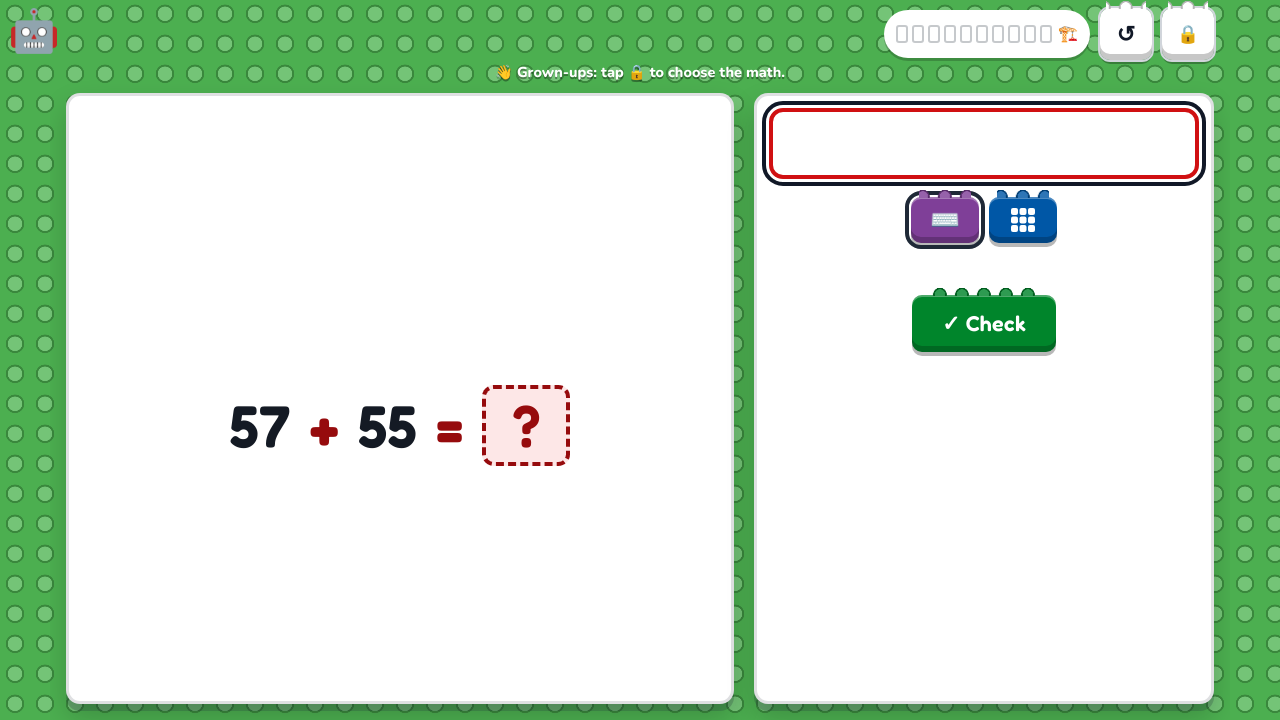
Test: KidView › parent cheers replace the praise, and 3 right in a row shows a 🔥 streak
The width and height of the screenshot is (1280, 720).
Step 1. Type "112" into the field named "Your answer" → [984, 143], box [769,108,1199,179]
Step 2. Click the button "✓ Check" → [984, 323], box [912,295,1056,352]
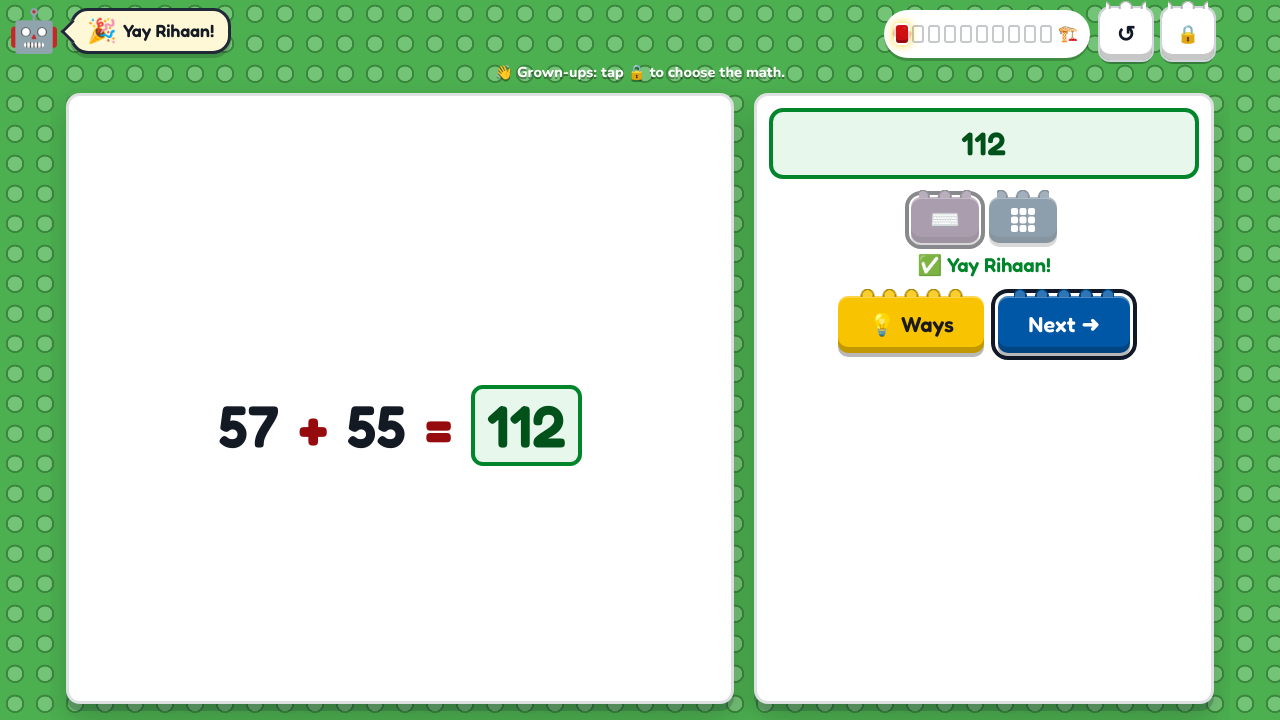
Check: the message with class "correct" shows "Yay Rihaan!", box [947,253,1051,277]
Step 3. Click the button "Next ➜" → [1064, 324], box [998,296,1130,353]
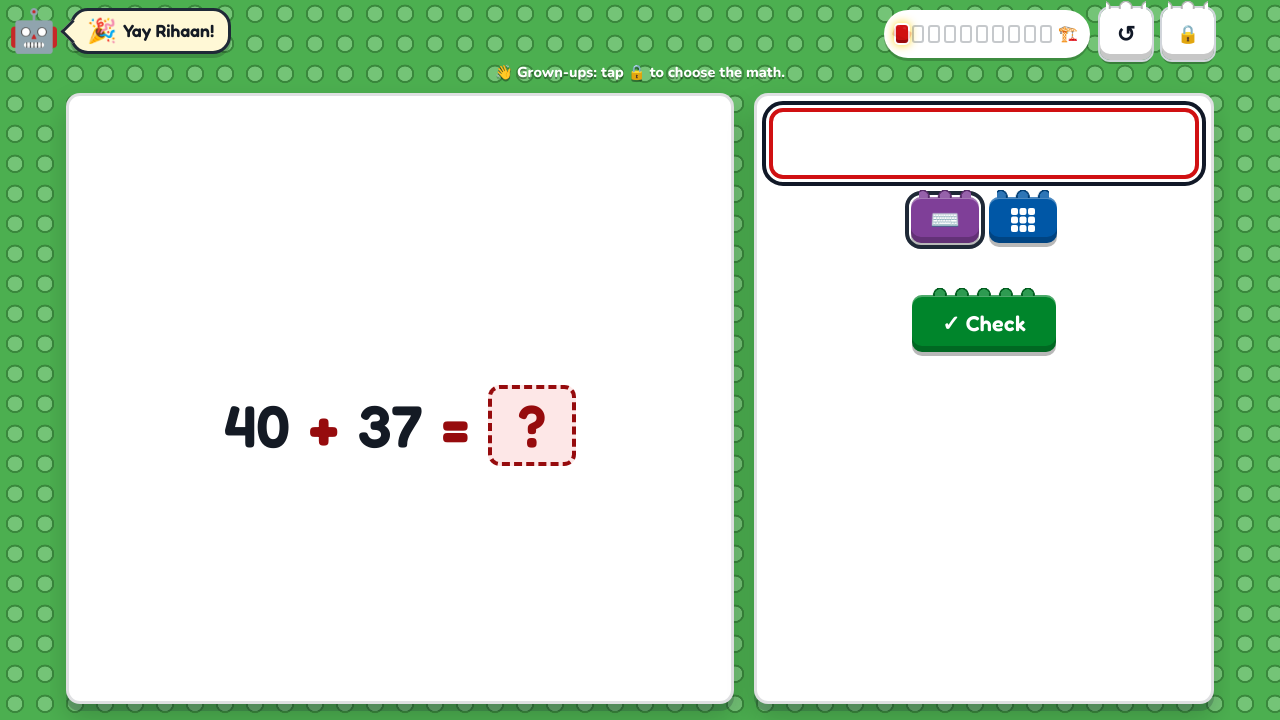
Step 4. Type "77" into the field named "Your answer" → [984, 143], box [769,108,1199,179]
Step 5. Click the button "✓ Check" → [984, 323], box [912,295,1056,352]
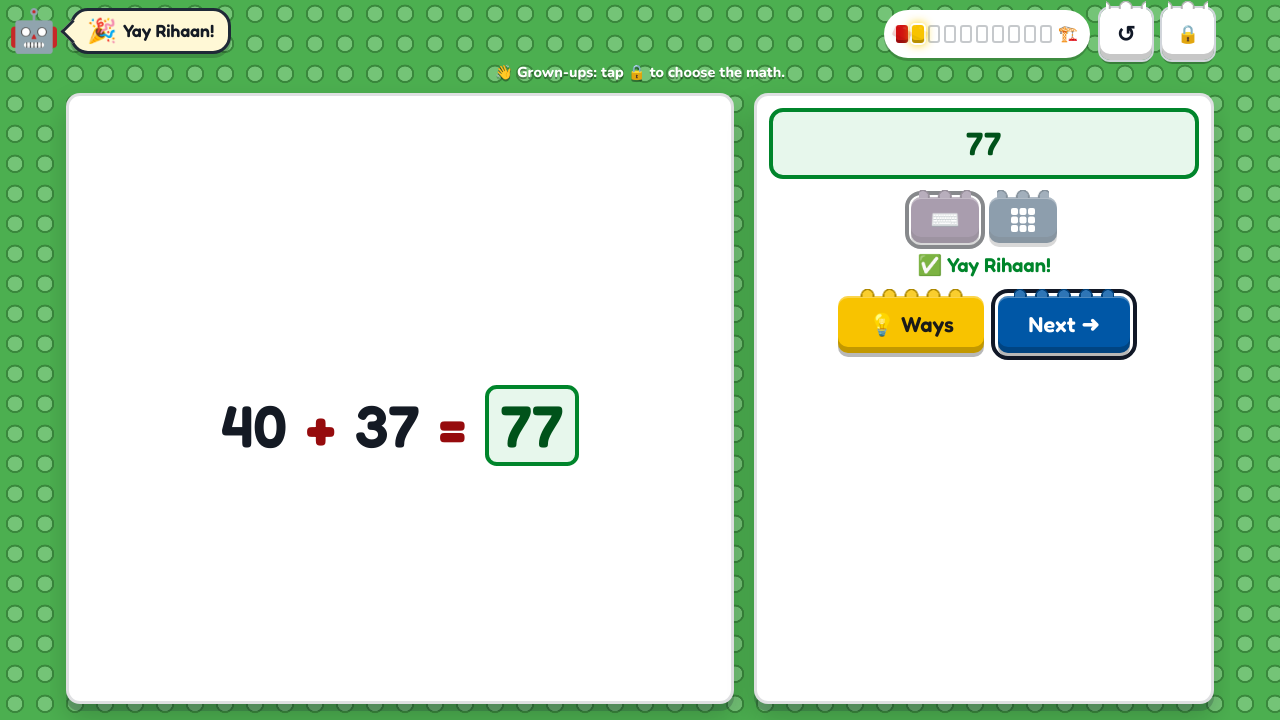
Check: the message with class "correct" shows "Yay Rihaan!", box [947,253,1051,277]
Step 6. Click the button "Next ➜" → [1064, 324], box [998,296,1130,353]
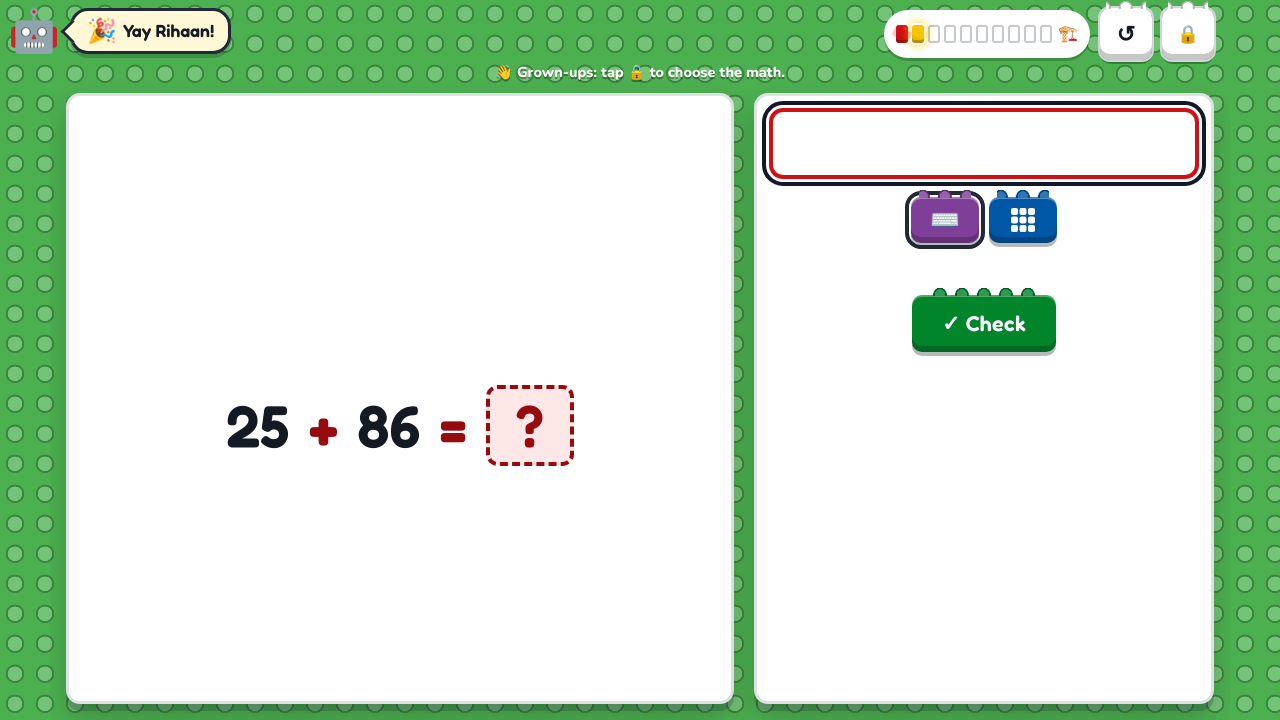
Step 7. Type "111" into the field named "Your answer" → [984, 143], box [769,108,1199,179]
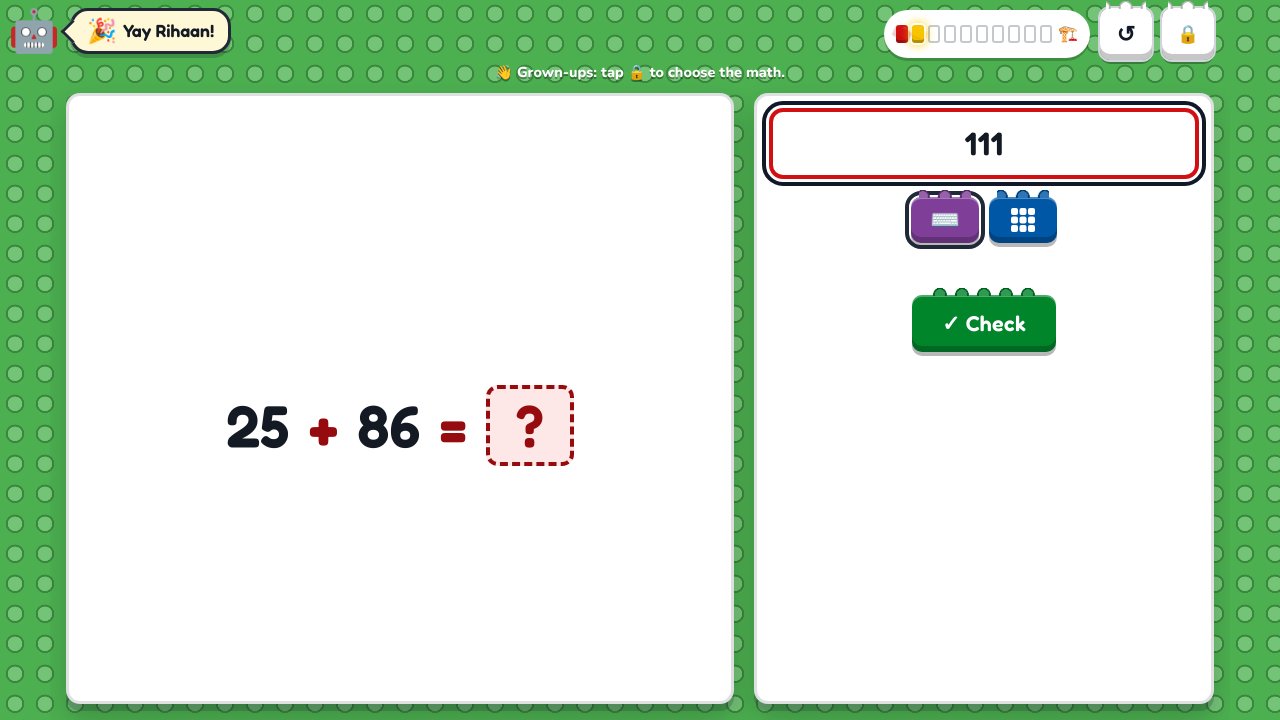
Step 8. Click the button "✓ Check" → [984, 323], box [912,295,1056,352]
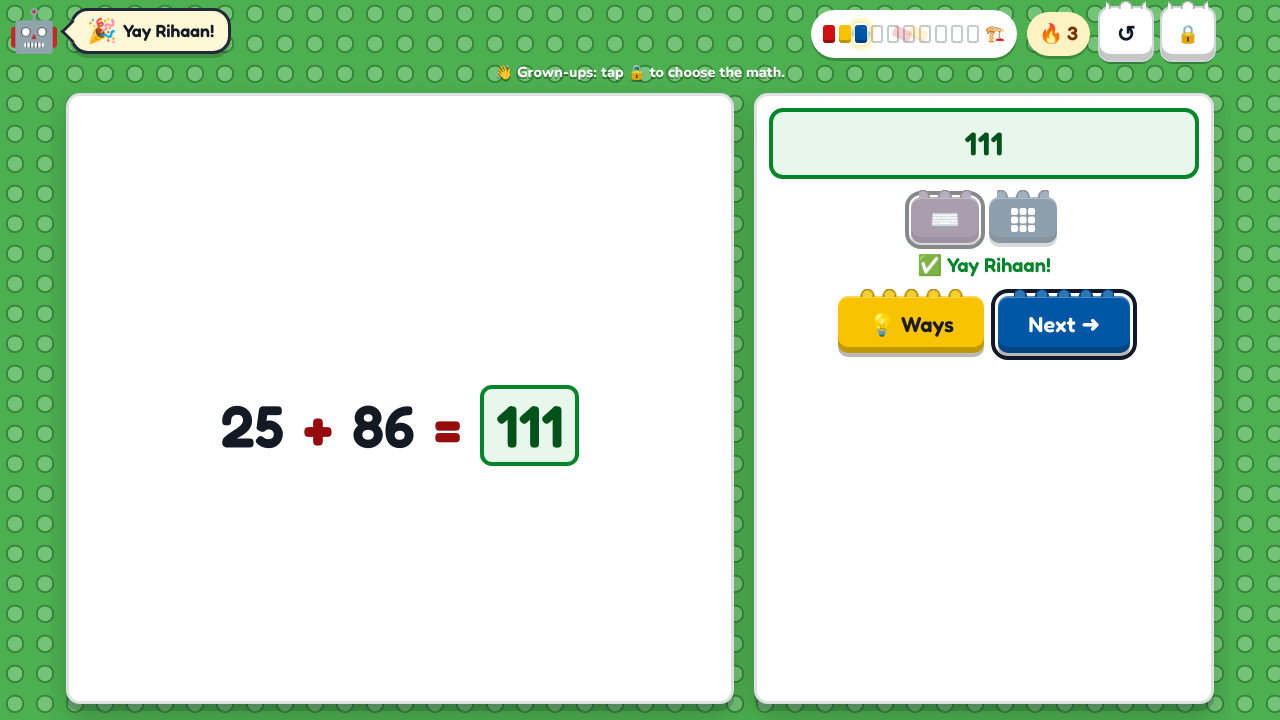
Check: the message with class "correct" shows "Yay Rihaan!", box [947,253,1051,277]
Check: the picture named "3 in a row" shows "3", box [1067,21,1078,45]
Check: the button "💡 Ways" is shown, box [838,296,984,353]
